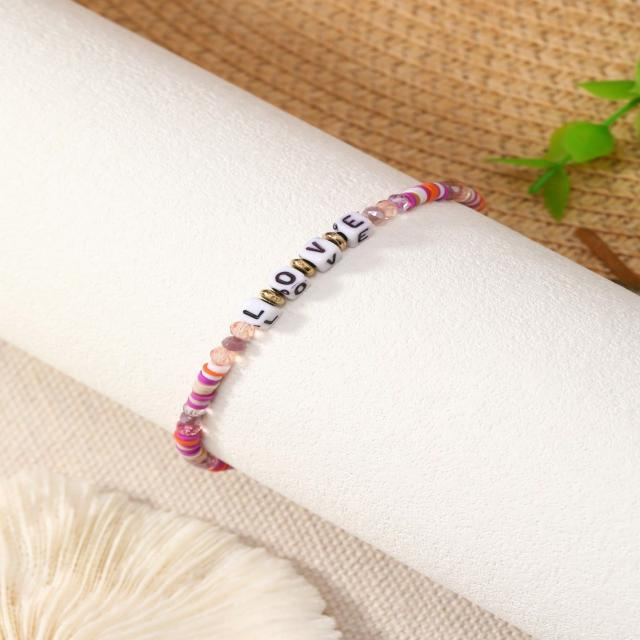bracelet: (123, 94, 608, 576)
